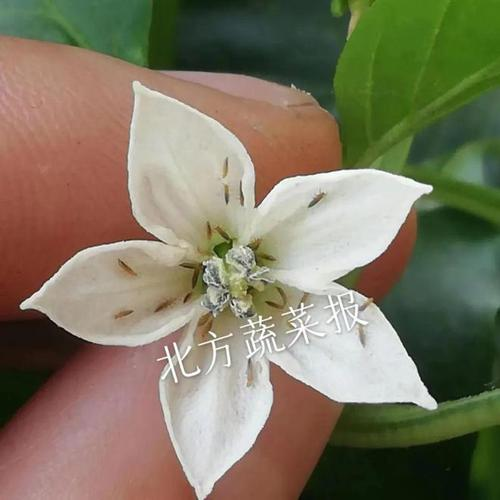Phlaeothripidae: (304, 184, 333, 209), (115, 256, 141, 279), (244, 353, 257, 389), (216, 149, 230, 181), (356, 324, 371, 352), (191, 264, 205, 291), (222, 181, 235, 209), (114, 306, 135, 321), (205, 214, 213, 246)
